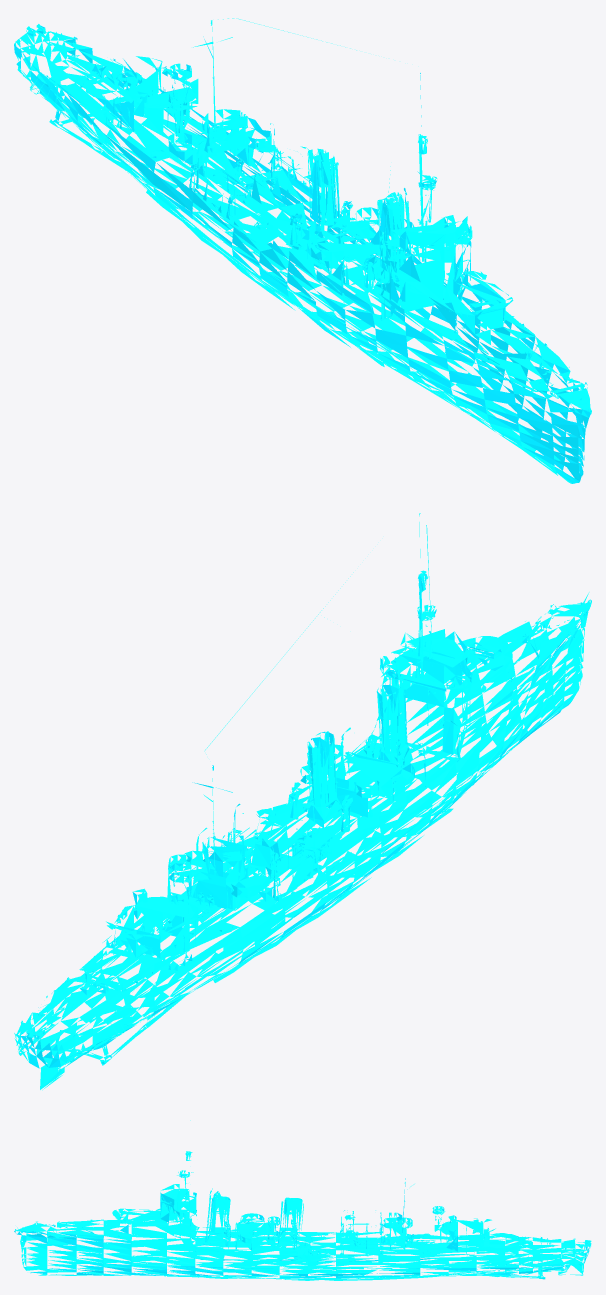
Rendered from Leader.glb.
The picture shows the model from 3 angles, top to bottom: view 1: azimuth 30°, elevation 25°; view 2: azimuth 150°, elevation 25°; view 3: azimuth 270°, elevation 25°; orthographic projection. The views are drawn at different scales.
Bounding box in the file's own units: 0.7832 × 2.23 × 7.49.
